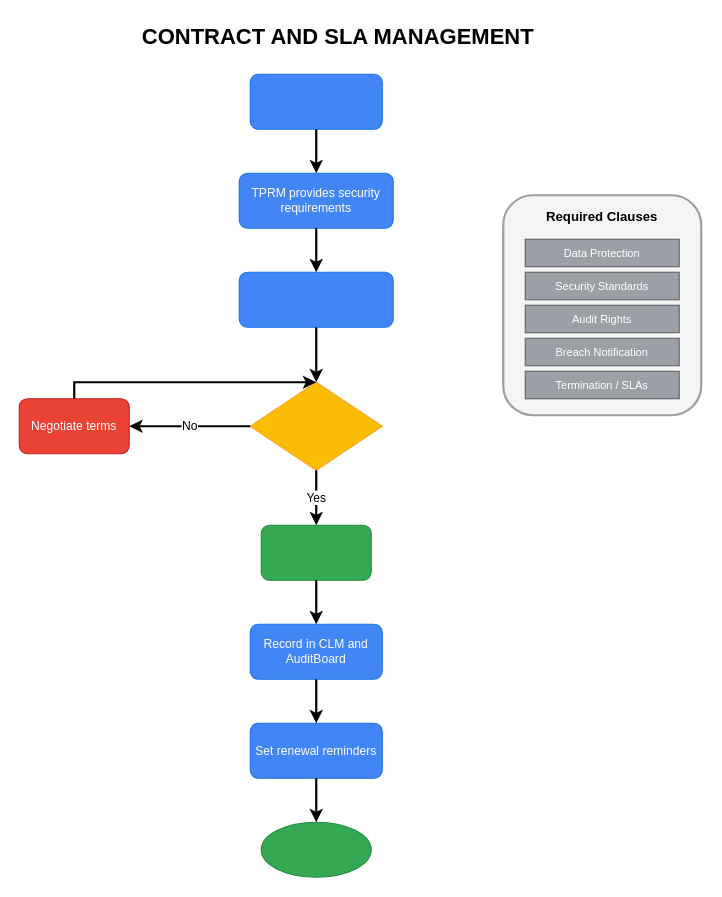
This 722x897 diagram has some shape labels left out. The shapes that lost their labels are listed below. From the top down, each one's centre as x and y in pixels, then its label:
At point 315,101: "Risk Assessment Complete".
At point 315,299: "Legal drafts reviews contract".
At point 315,425: "Vendor accepts?".
At point 315,552: "Execute contract".
At point 315,849: "Complete".
